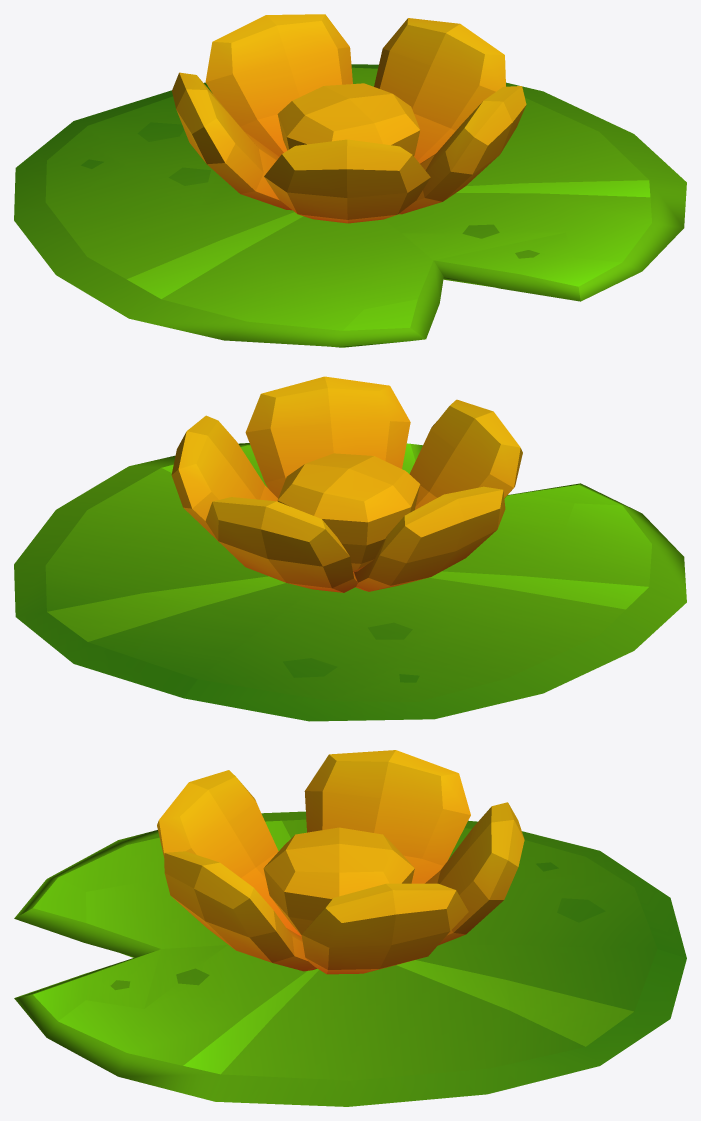
Rendered from waterlily_yellow1.glb.
3 renders of one model, top to bottom at view 1: azimuth 30°, elevation 25°; view 2: azimuth 150°, elevation 25°; view 3: azimuth 270°, elevation 25°, orthographic. The views are drawn at different scales.
Parts seen in each view (by area): view 1: waterlily_yellow1; view 2: waterlily_yellow1; view 3: waterlily_yellow1.
Boxes of the visible parts, left/top/right/bottom form: waterlily_yellow1: left=14, top=14, right=686, bottom=347; waterlily_yellow1: left=14, top=376, right=686, bottom=721; waterlily_yellow1: left=14, top=750, right=686, bottom=1106.
Bounding box in the file's own units: 0.9773 × 0.2342 × 0.9355.
Materials: 1 (1 with a texture image).
